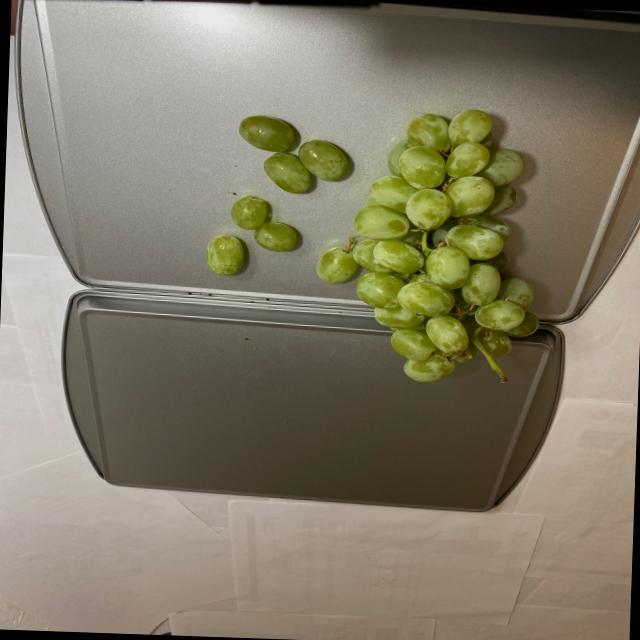grapes: (202, 102, 542, 385)
